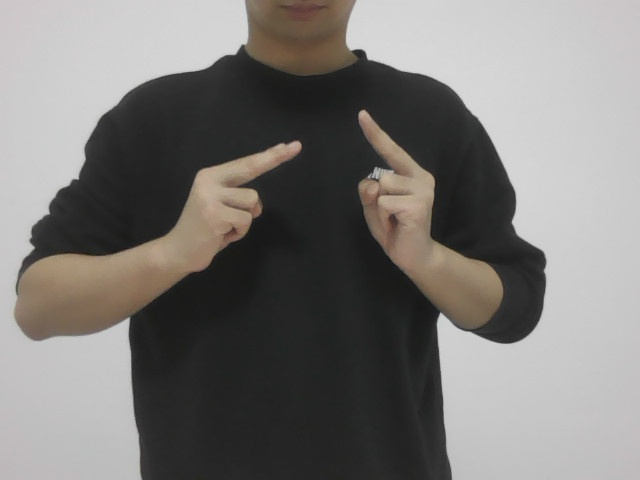know: (167, 90, 437, 298)
